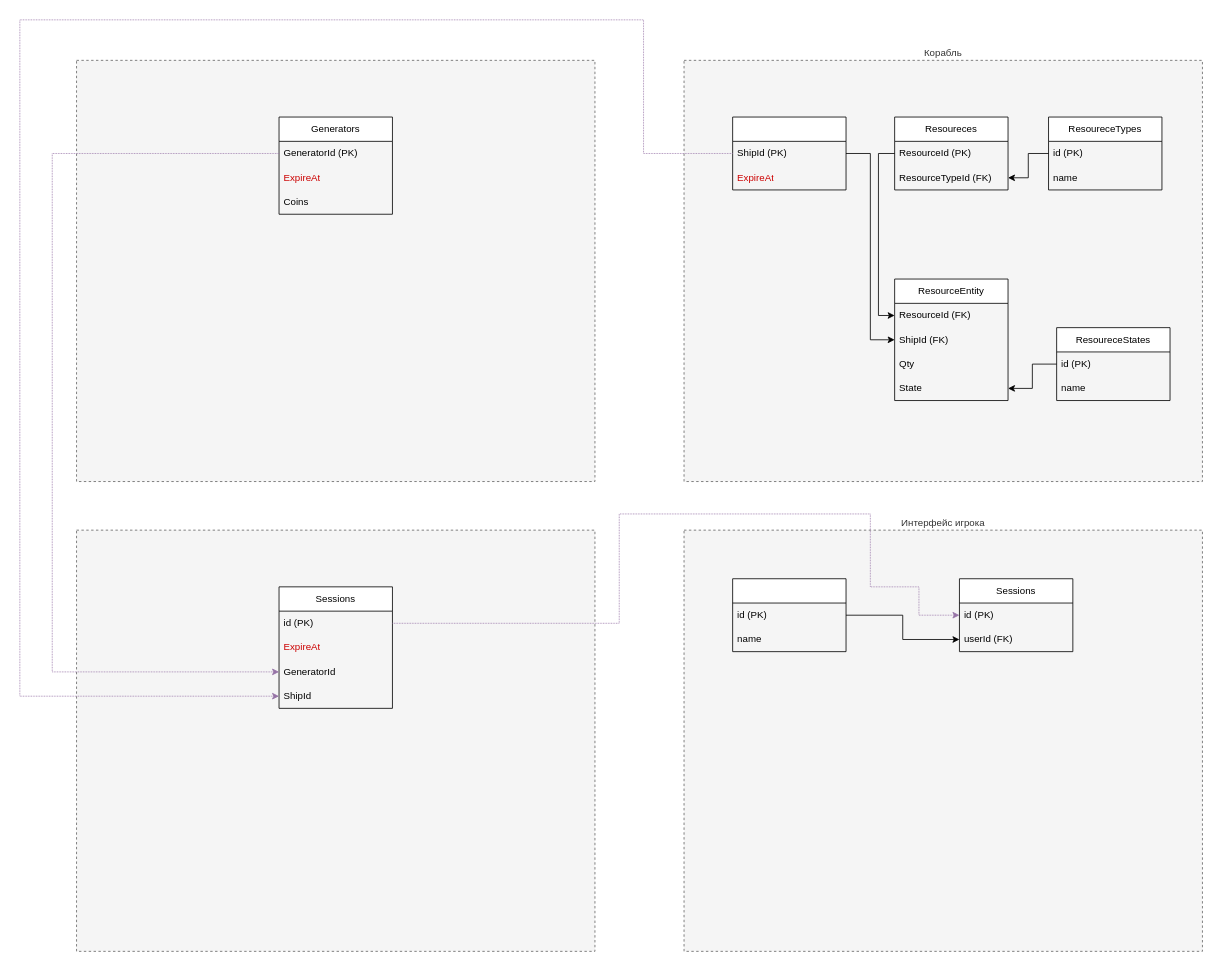
Some shapes in this 1217 by 966 pixel diagram are drawn without their labels. Here are the shapes that lost their labels. From the top down, the box of each, then its label:
(732, 116, 846, 190): Ships
(76, 60, 595, 482): Генератор проблем
(732, 578, 846, 652): Users
(76, 529, 595, 951): Хранение состояний
